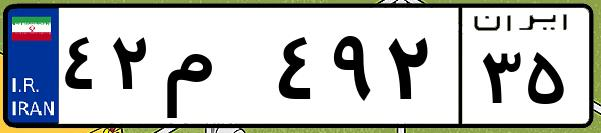2: (385, 28, 445, 110), (110, 28, 158, 98)
3: (475, 38, 525, 113)
4: (270, 28, 330, 110), (57, 26, 110, 100)
5: (525, 38, 570, 115)
9: (330, 28, 385, 110)
م: (158, 20, 270, 120)
